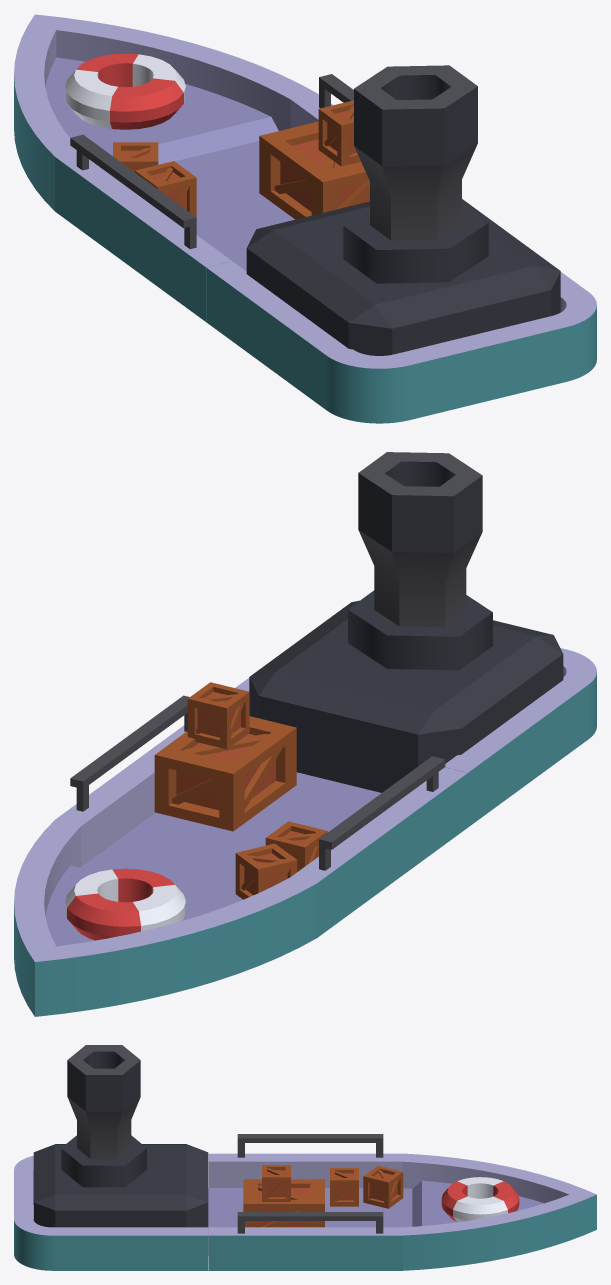
Rendered from boat-simple.glb.
The picture shows the model from 3 angles, top to bottom: view 1: azimuth 30°, elevation 25°; view 2: azimuth 150°, elevation 25°; view 3: azimuth 270°, elevation 25°; orthographic projection. The views are drawn at different scales.
Visible parts, largest first — view 1: mergedBlocks(Clone); view 2: mergedBlocks(Clone); view 3: mergedBlocks(Clone).
Part boxes in pixels (box(x1,y1,x2,y2)): mergedBlocks(Clone): box(14, 14, 596, 423); mergedBlocks(Clone): box(14, 452, 596, 1016); mergedBlocks(Clone): box(14, 1045, 596, 1270).
Bounding box in the file's own units: 1 × 0.9594 × 3.
Materials: 1 (1 with a texture image).
